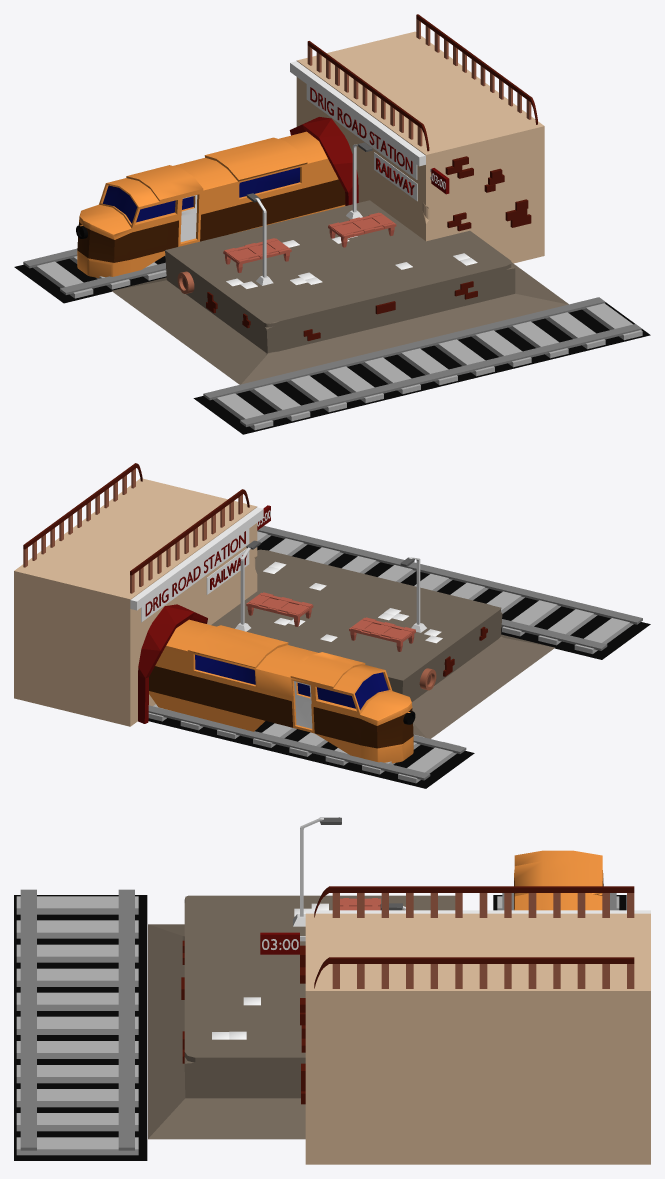
Rendered from train-station.fbx.
3 views of the same model, one above another, from view 1: azimuth 30°, elevation 25°; view 2: azimuth 150°, elevation 25°; view 3: azimuth 270°, elevation 25° (orthographic). The views are drawn at different scales.
Visible parts, largest first — view 1: Cube.001, Cube.008, Cylinder.001, Cube.002, Plane, Cube.004, Cube.005, Cube.037, Icosphere, Plane.001, Plane.004, Plane.002 (+9 smaller); view 2: Cube.008, Cube.001, Cylinder.001, Cube.002, Plane, Cube.005, Plane.001, Icosphere, Cube.003, Cube.006, Cube.037, Plane.004 (+9 smaller); view 3: Cube.008, Cube.001, Cube.002, Plane, Cube.004, Cube.005, Cylinder.001, Plane.002, Plane.003, Cube.009, Cube.010, Cube.037 (+2 smaller).
Part boxes in pixels (box(x1,y1,x2,y2)): Cube.001: box(112, 200, 568, 384); Cube.008: box(296, 31, 544, 263); Cylinder.001: box(76, 131, 345, 277); Cube.002: box(213, 303, 642, 430); Plane: box(193, 302, 650, 434); Cube.004: box(203, 297, 605, 400); Cube.005: box(240, 324, 641, 426); Cube.037: box(290, 61, 425, 166); Icosphere: box(289, 117, 358, 205); Plane.001: box(14, 256, 166, 303); Plane.004: box(306, 84, 417, 179); Plane.002: box(307, 45, 422, 146); Cube.008: box(14, 478, 257, 726); Cube.001: box(211, 549, 554, 738); Cylinder.001: box(149, 619, 415, 763); Cube.002: box(257, 531, 633, 653); Plane: box(257, 535, 650, 659); Cube.005: box(257, 525, 642, 624); Plane.001: box(148, 718, 474, 788); Icosphere: box(138, 604, 207, 723); Cube.003: box(148, 704, 460, 783); Cube.006: box(148, 705, 430, 780); Cube.037: box(130, 507, 263, 610); Plane.004: box(141, 529, 249, 622); Cube.008: box(305, 913, 650, 1164); Cube.001: box(148, 895, 455, 1139); Cube.002: box(16, 896, 138, 1155); Plane: box(14, 895, 147, 1160); Cube.004: box(118, 889, 134, 1150); Cube.005: box(20, 889, 36, 1150); Cylinder.001: box(514, 850, 603, 910); Plane.002: box(332, 893, 634, 917); Plane.003: box(332, 964, 634, 988); Cube.009: box(314, 886, 634, 917); Cube.010: box(314, 957, 634, 988); Cube.037: box(306, 910, 650, 913).
Bounding box in the file's own units: 1868 × 663 × 1878.
